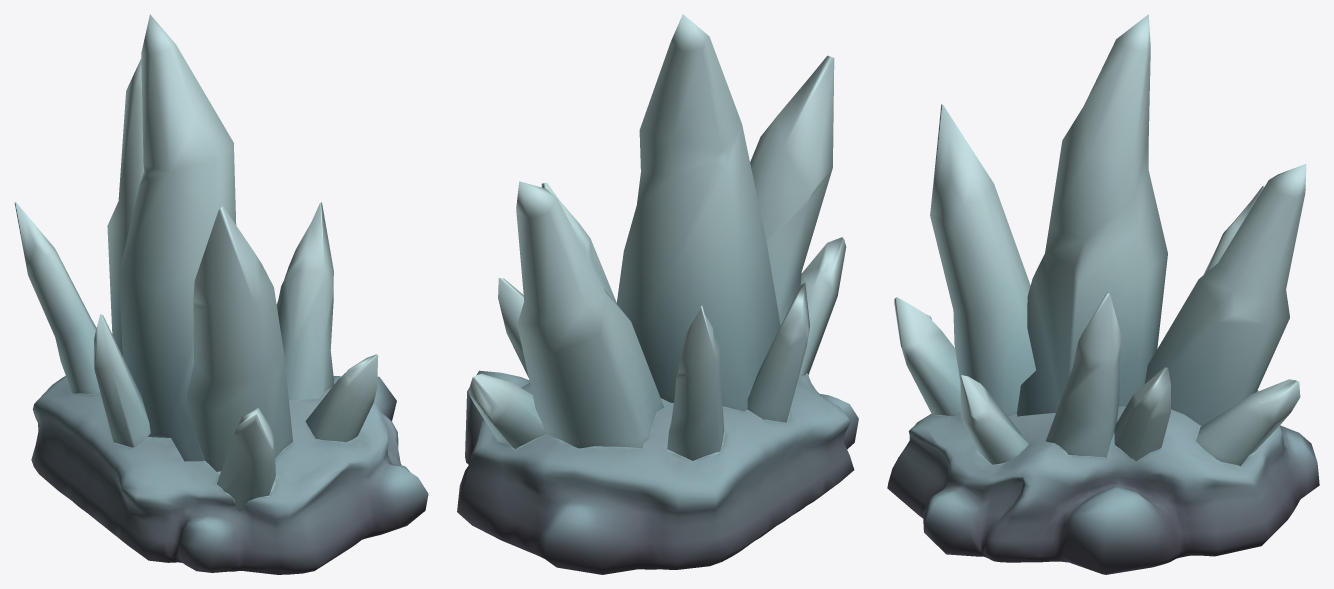
Rendered from addon_frost_tripo.glb.
The picture shows the model from 3 angles, left to right: view 1: azimuth 30°, elevation 25°; view 2: azimuth 150°, elevation 25°; view 3: azimuth 270°, elevation 25°; orthographic projection. The views are drawn at different scales.
Parts seen in each view (by area): view 1: tripo_node_ed74e40b-b6ef-4145-ac45-c2ed171adfba; view 2: tripo_node_ed74e40b-b6ef-4145-ac45-c2ed171adfba; view 3: tripo_node_ed74e40b-b6ef-4145-ac45-c2ed171adfba.
Part boxes in pixels (<box>): tripo_node_ed74e40b-b6ef-4145-ac45-c2ed171adfba: <box>14,14,428,574</box>; tripo_node_ed74e40b-b6ef-4145-ac45-c2ed171adfba: <box>457,14,858,574</box>; tripo_node_ed74e40b-b6ef-4145-ac45-c2ed171adfba: <box>887,14,1319,574</box>.
Size of the model in its own units: 0.6777 by 0.998 by 0.8301.
1 material, 1 textured.
